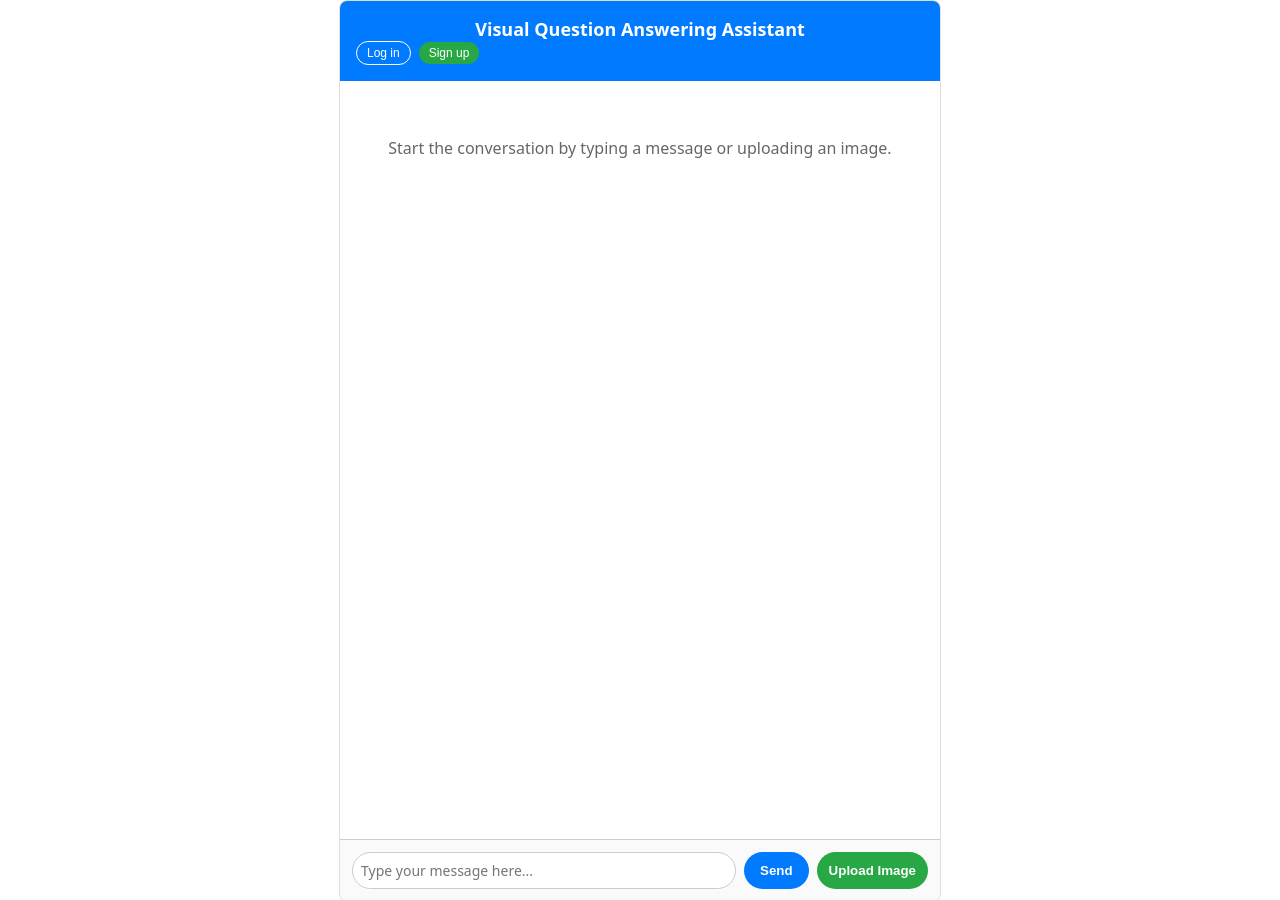
Test: User Authentication › successful registration closes modal and shows logged in state
Click the button with test id "header-signup" at (449, 53), box x1=419 y1=42 x2=479 y2=64
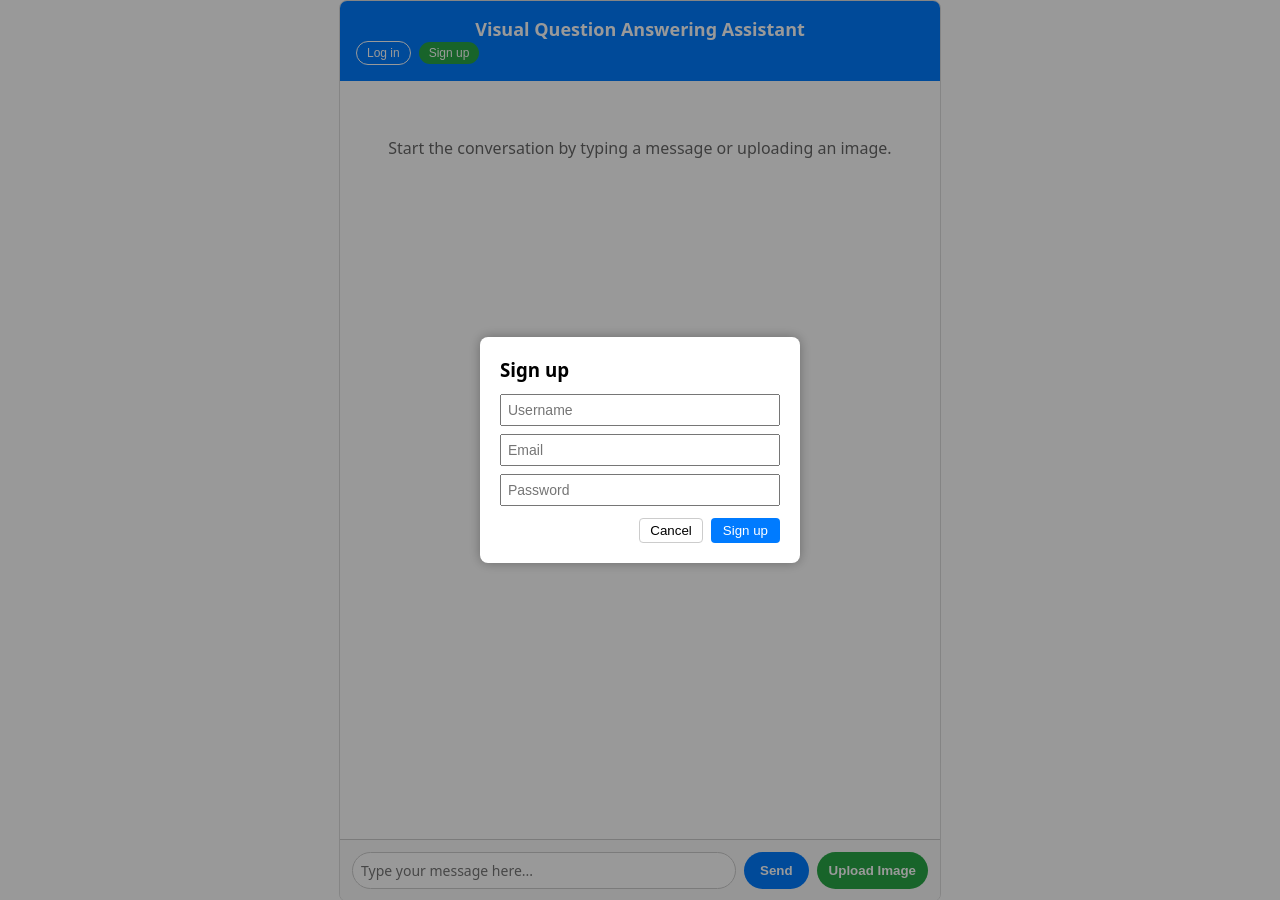
Type "testuser" into the field with placeholder "Username" at (640, 410), box x1=500 y1=394 x2=780 y2=426
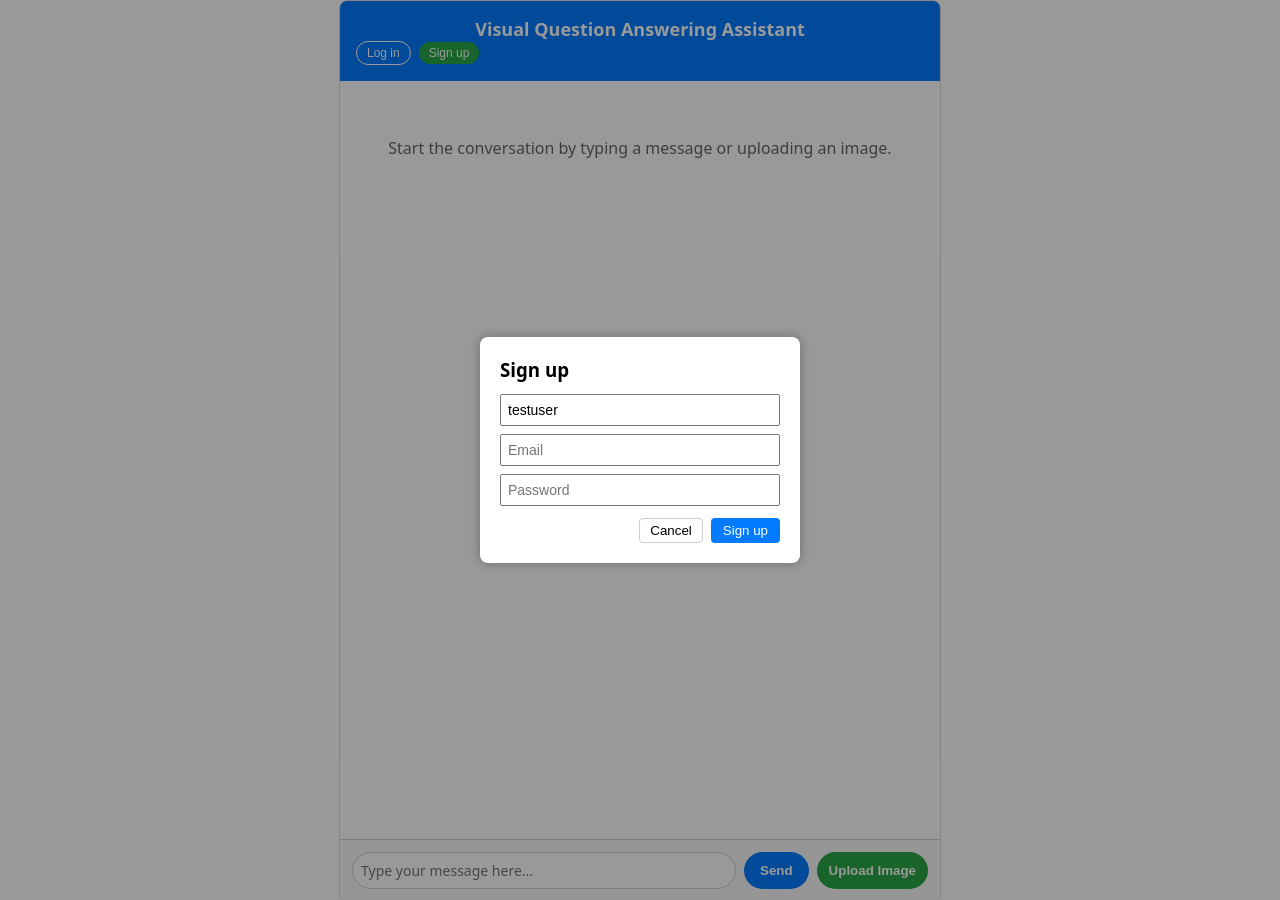
Type "test@example.com" into the field with placeholder "Email" at (640, 450), box x1=500 y1=434 x2=780 y2=466
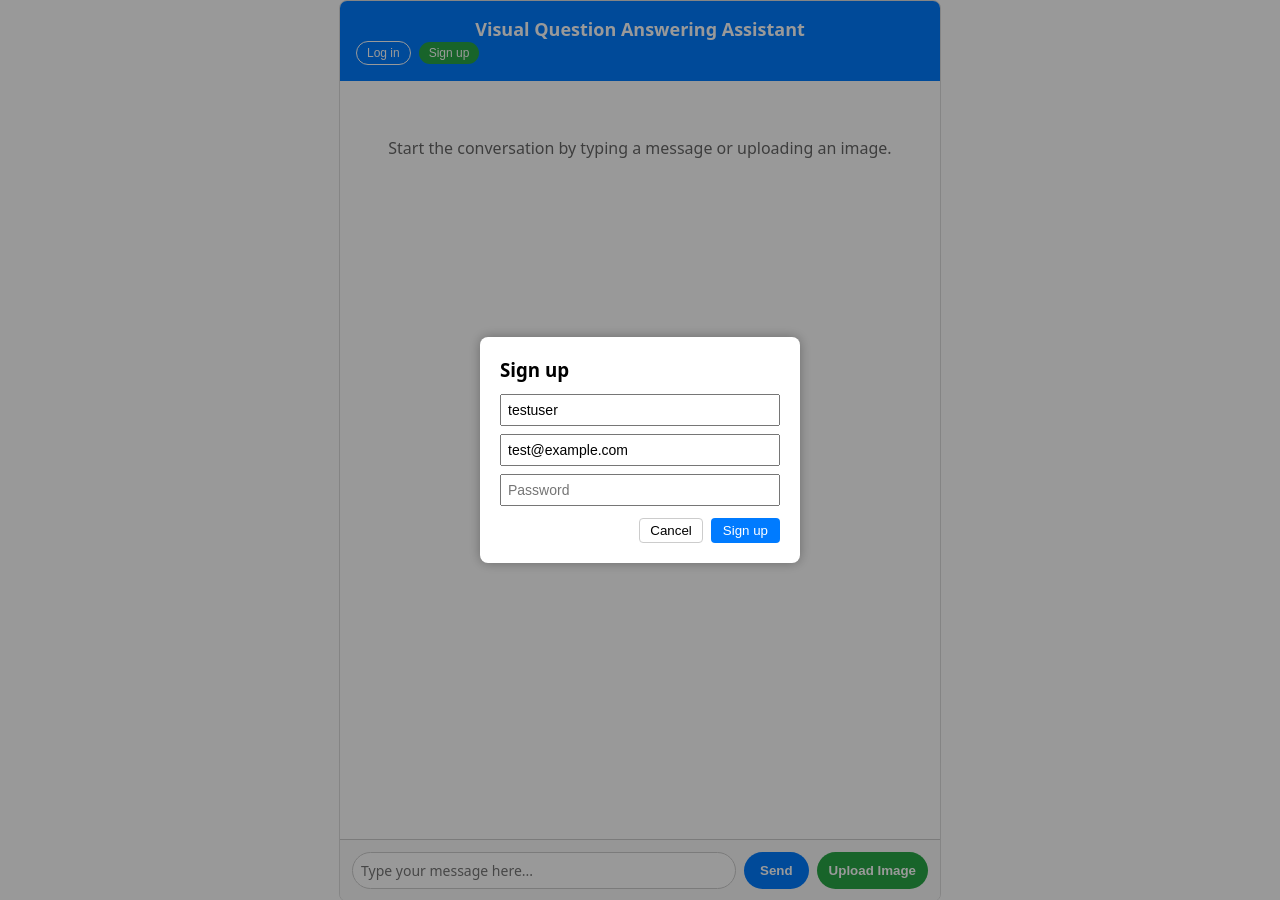
Type "password123" into the password field with placeholder "Password" at (640, 490), box x1=500 y1=474 x2=780 y2=506
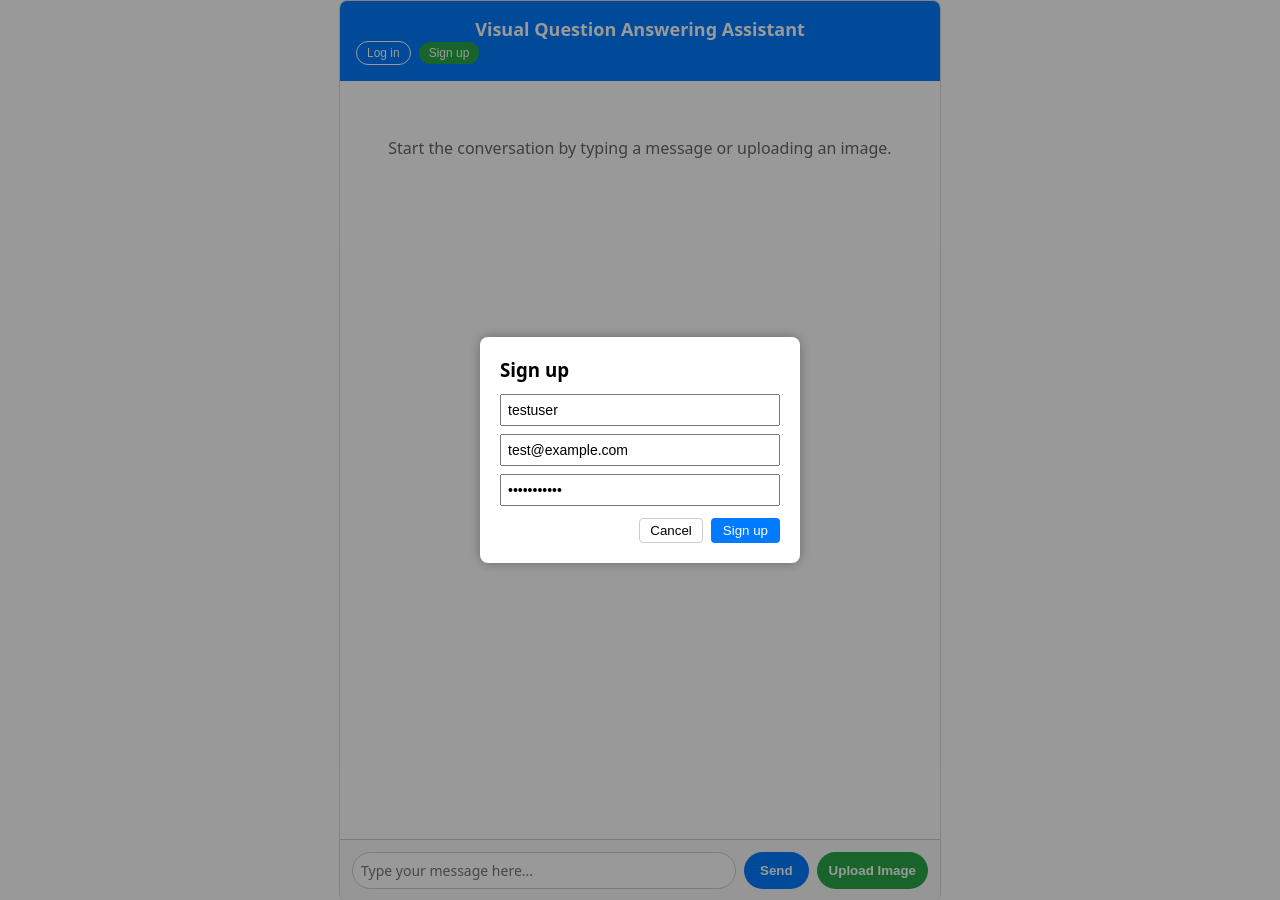
Click the button with test id "modal-submit" at (745, 530), box x1=711 y1=518 x2=780 y2=543
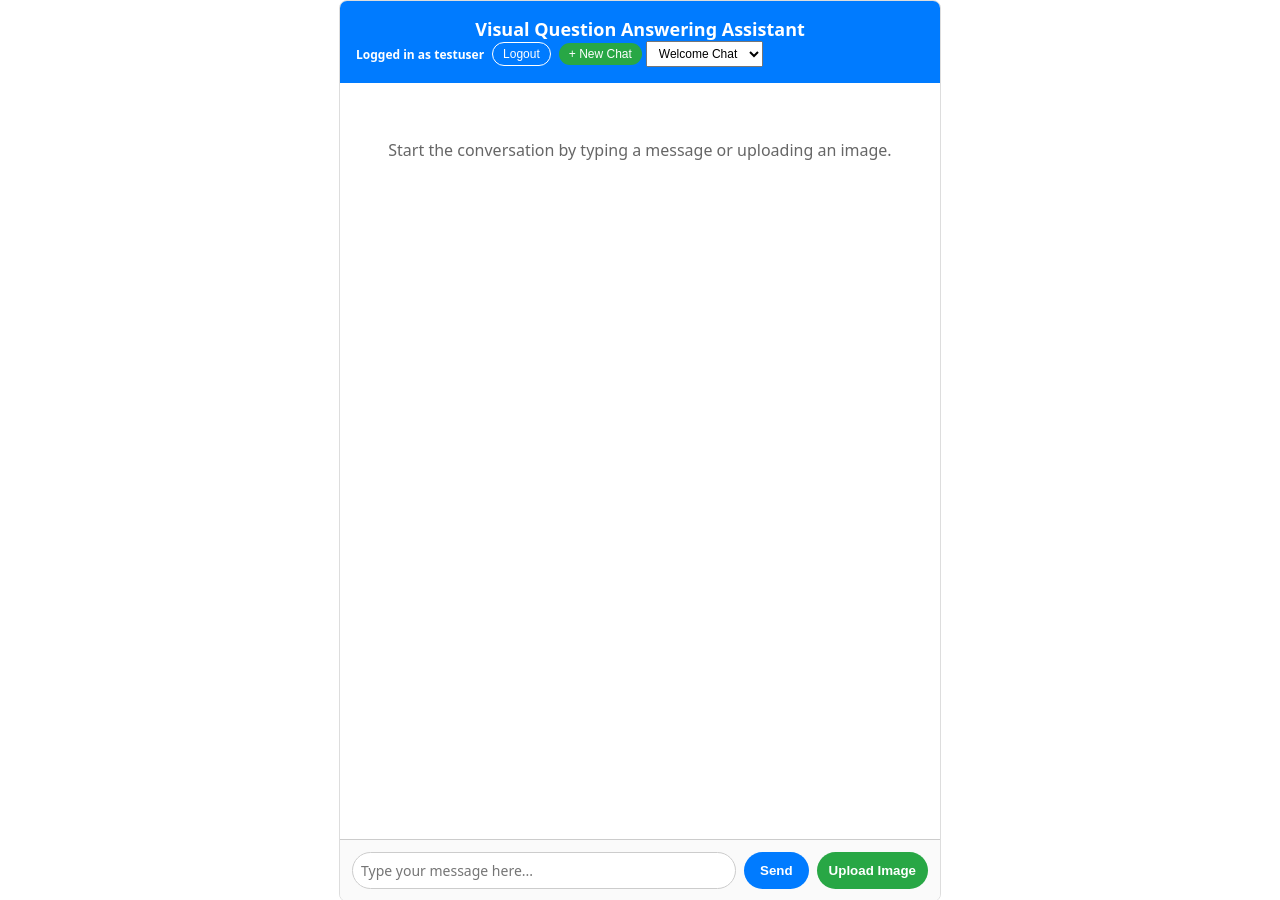
Now the text "Logged in as testuser" is shown, box x1=356 y1=46 x2=484 y2=62
